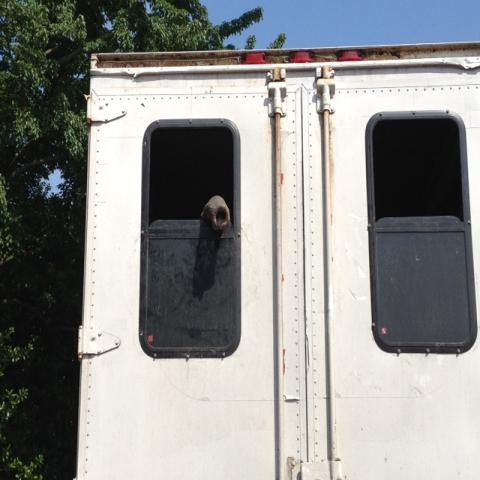truck: (77, 41, 479, 479)
